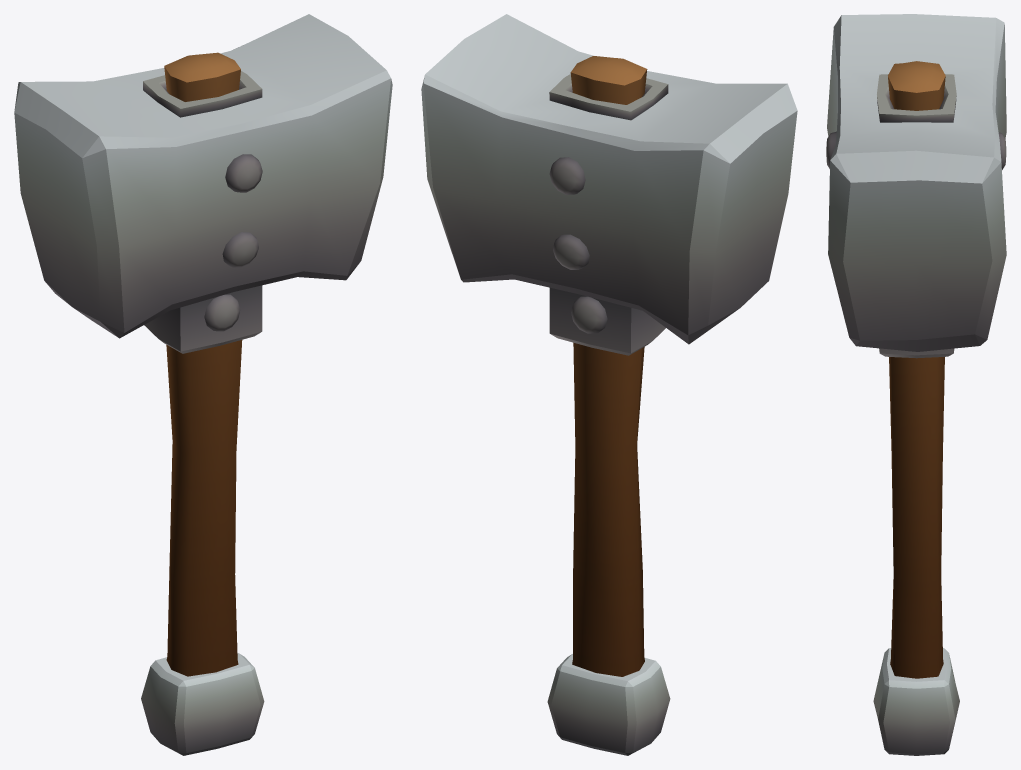
The model's file is Hammer_04.obj.
3 renders of one model, left to right at view 1: azimuth 30°, elevation 25°; view 2: azimuth 150°, elevation 25°; view 3: azimuth 270°, elevation 25°, orthographic.
Visible parts, largest first — view 1: Hammer_04; view 2: Hammer_04; view 3: Hammer_04.
Part boxes in pixels (box(x1,y1,x2,y2)): Hammer_04: box(14, 14, 392, 755); Hammer_04: box(421, 14, 797, 755); Hammer_04: box(826, 14, 1006, 755).
Size of the model in its own units: 0.5263 by 1.08 by 0.2641.
